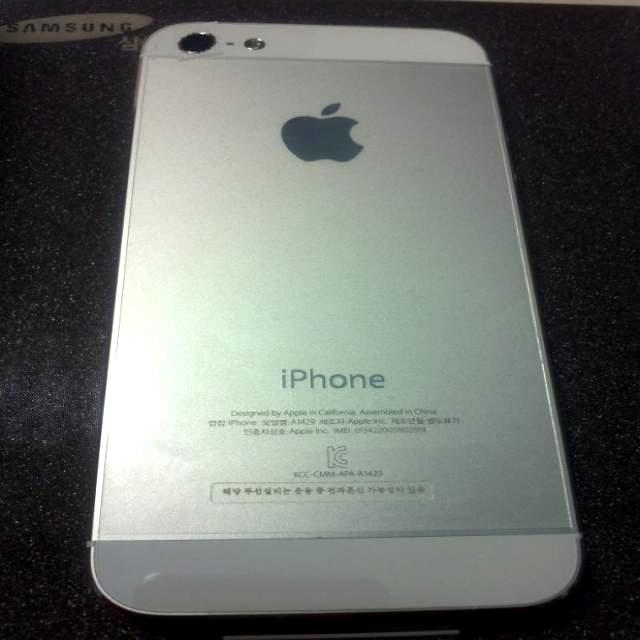lens_back: (175, 23, 223, 63)
phone: (89, 9, 586, 626)
